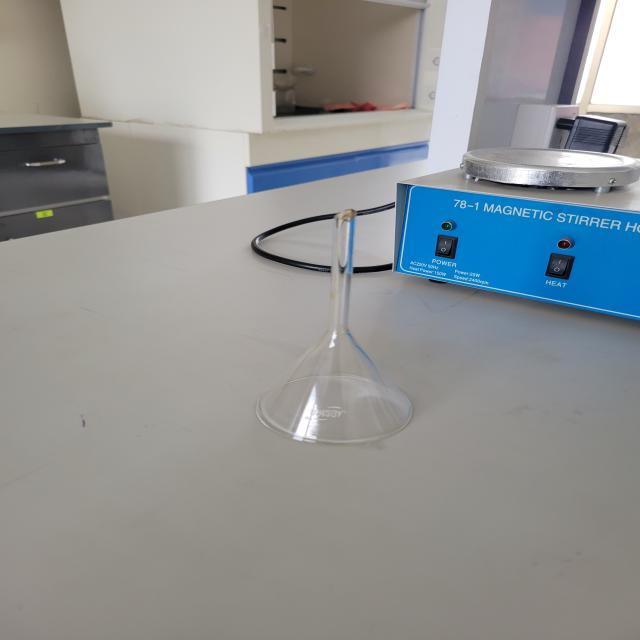Funnel: (208, 184, 465, 482)
